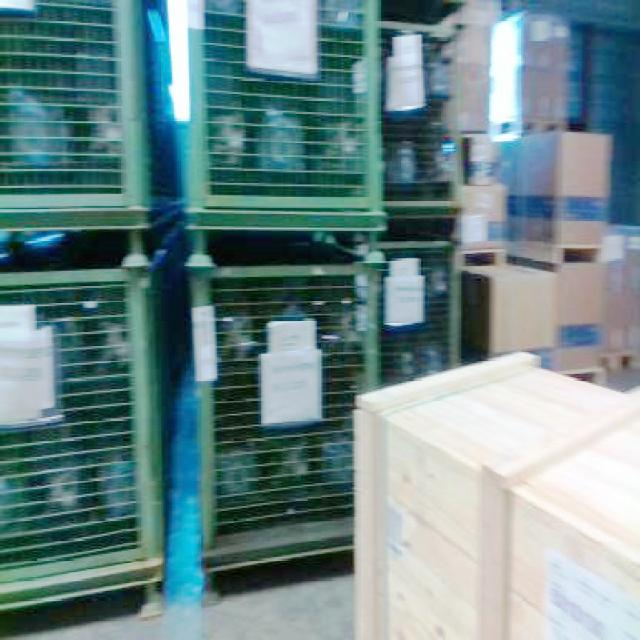ground: (0, 557, 355, 638)
pallet: (351, 348, 638, 638), (498, 378, 638, 638)
